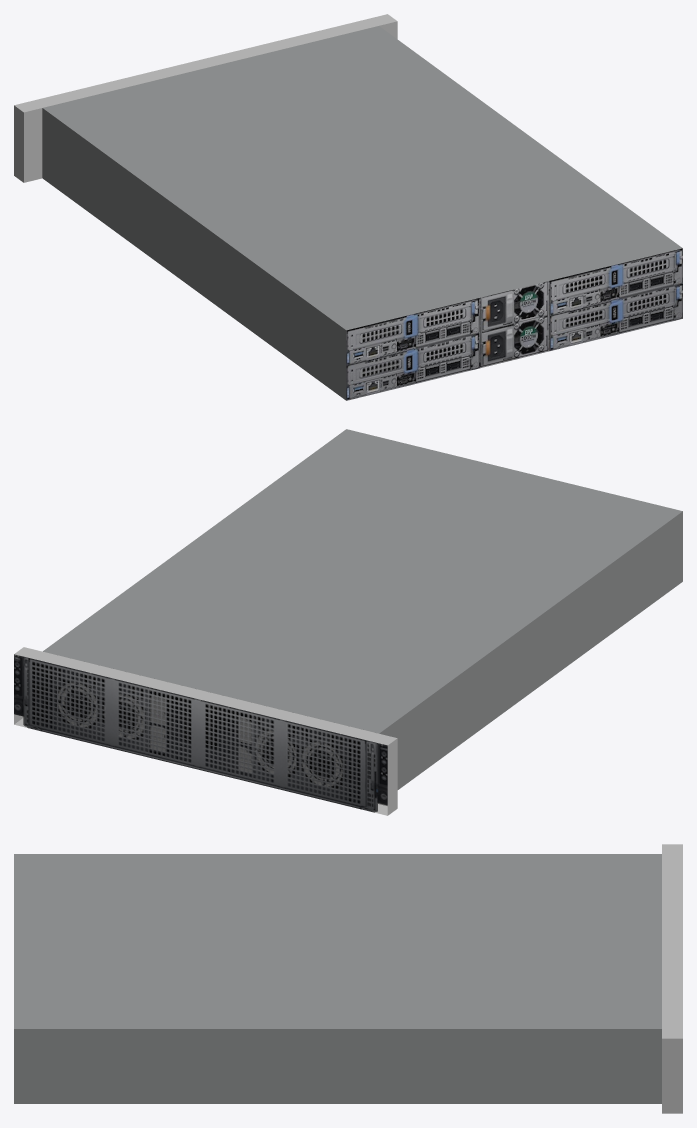
3 views of the same model, one above another, from view 1: azimuth 30°, elevation 25°; view 2: azimuth 150°, elevation 25°; view 3: azimuth 270°, elevation 25° (orthographic). The views are drawn at different scales.
Visible parts, largest first — view 1: Chassis_Cube; view 2: Chassis_Cube; view 3: Chassis_Cube.
Boxes of the visible parts, x1=… form: Chassis_Cube: x1=14, y1=14, x2=682, y2=400; Chassis_Cube: x1=14, y1=429, x2=682, y2=815; Chassis_Cube: x1=14, y1=844, x2=682, y2=1113.
Bounding box in the file's own units: 0.6426 × 0.1157 × 0.9344.
